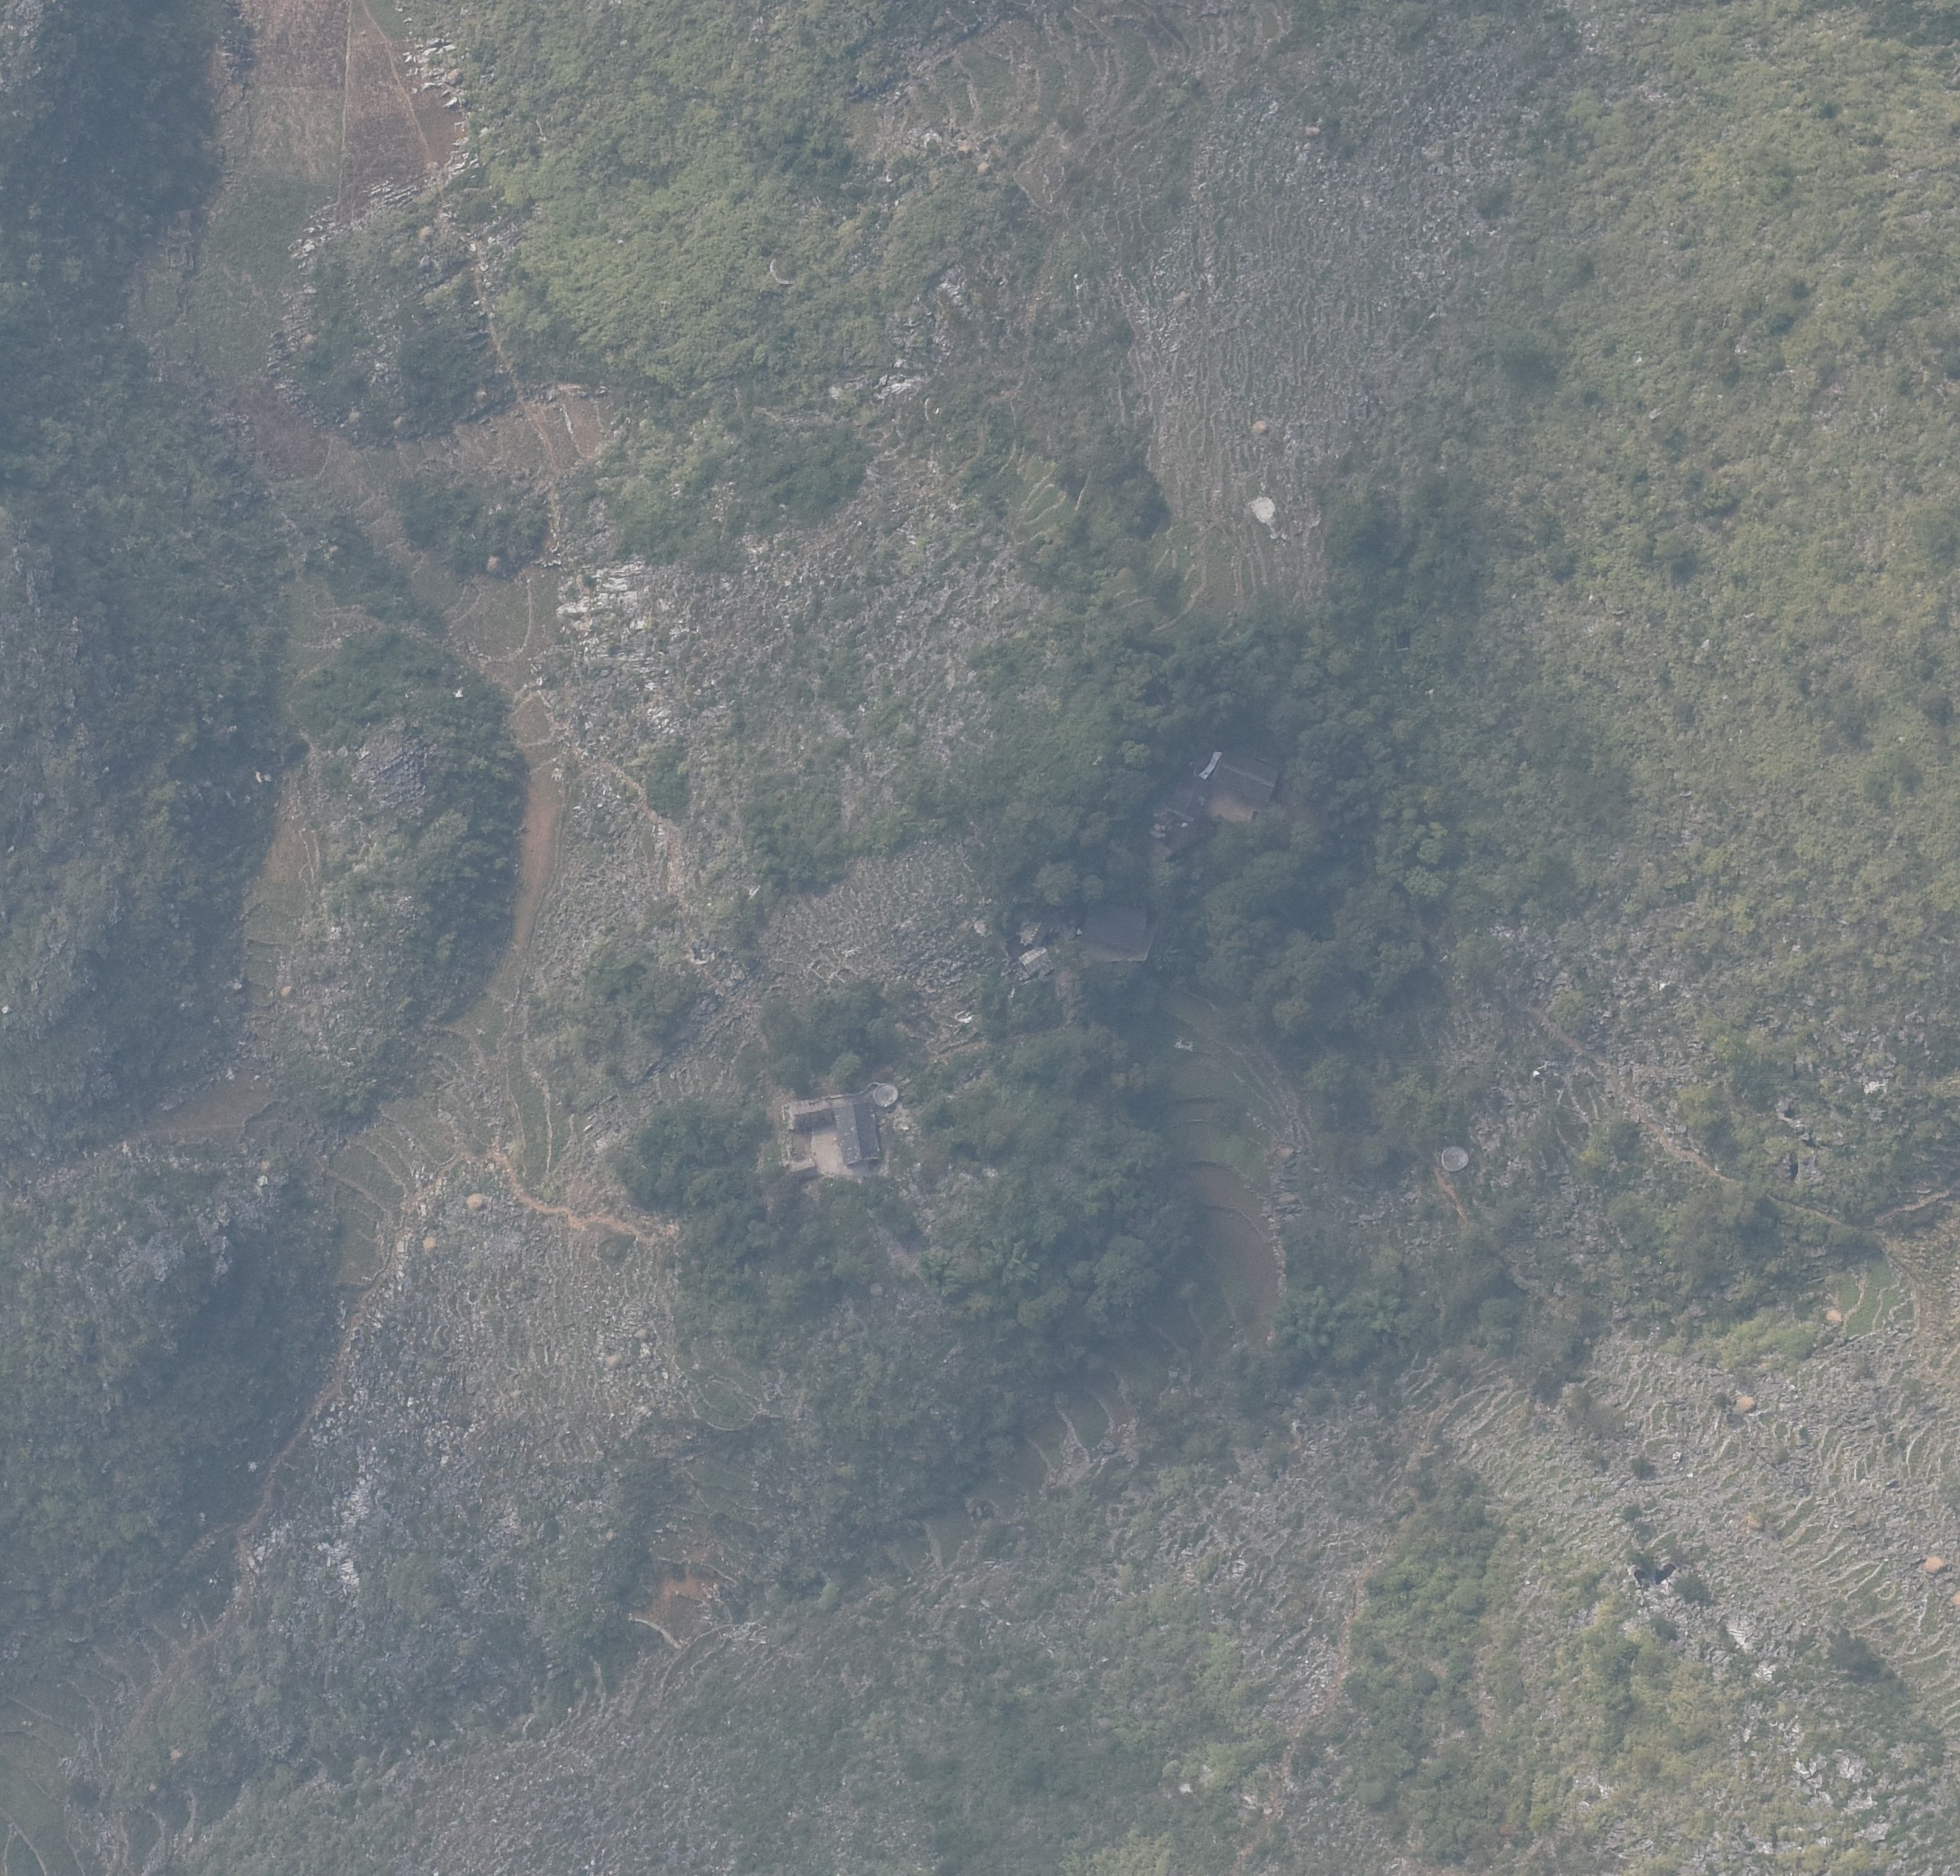building: (782, 1094, 882, 1164), (1209, 752, 1281, 805), (1078, 905, 1144, 952), (1171, 772, 1211, 822), (1018, 947, 1052, 973), (1018, 920, 1045, 948), (787, 1158, 817, 1179)
well: (1440, 1143, 1470, 1172), (873, 1083, 899, 1108)
